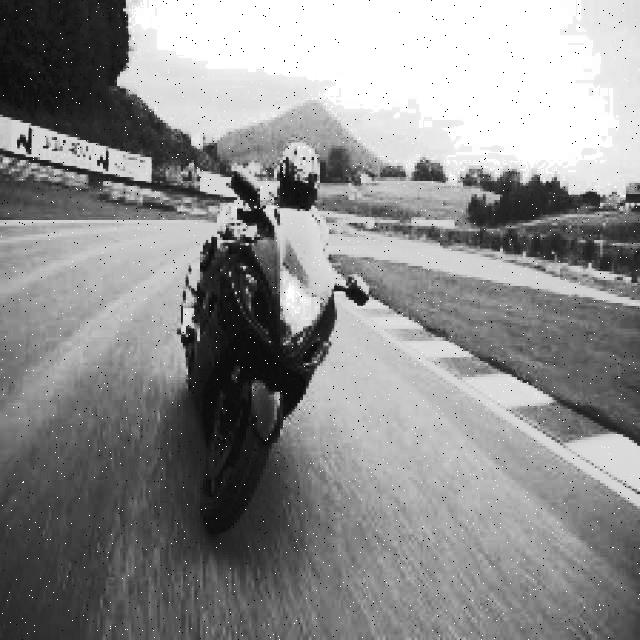Bike: (195, 202, 330, 532)
